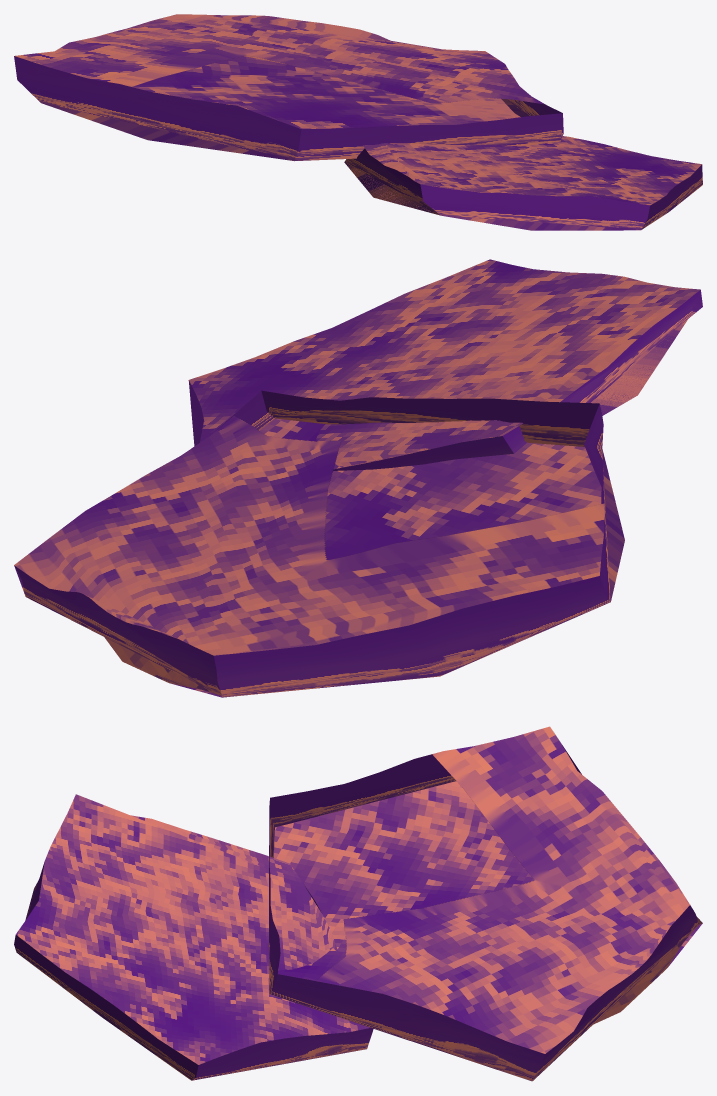
File: Plate Coral 1.fbx
3 renders of one model, top to bottom at view 1: azimuth 30°, elevation 25°; view 2: azimuth 150°, elevation 25°; view 3: azimuth 270°, elevation 25°, orthographic. The views are drawn at different scales.
Parts seen in each view (by area): view 1: Cylinder.013; view 2: Cylinder.013; view 3: Cylinder.013.
Part boxes in pixels (x1,y1,x2,y2): Cylinder.013: (14,14,702,230); Cylinder.013: (14,259,702,697); Cylinder.013: (14,726,702,1081).
Bounding box in the file's own units: 48.55 × 13.41 × 58.43.
Materials: 2 (2 with a texture image).
